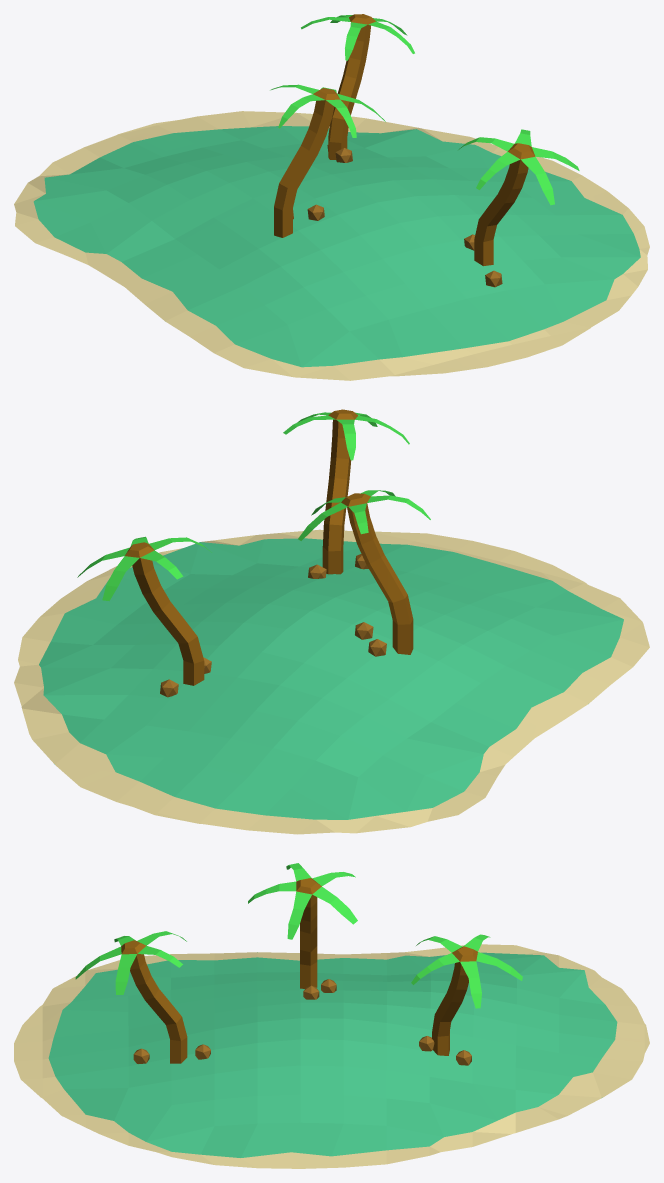
File: Island.glb
3 views of the same model, one above another, from view 1: azimuth 30°, elevation 25°; view 2: azimuth 150°, elevation 25°; view 3: azimuth 270°, elevation 25° (orthographic). The views are drawn at different scales.
Parts seen in each view (by area): view 1: Plane, Cylinder.001, Cylinder, Cylinder.002; view 2: Plane, Cylinder.002, Cylinder, Cylinder.001; view 3: Plane, Cylinder.001, Cylinder.002, Cylinder.
Part boxes in pixels (box(x1,y1,x2,y2)): Plane: box(14, 111, 649, 380); Cylinder.001: box(458, 129, 579, 266); Cylinder: box(270, 84, 385, 237); Cylinder.002: box(301, 14, 414, 159); Plane: box(14, 529, 649, 834); Cylinder.002: box(77, 536, 211, 685); Cylinder: box(298, 490, 430, 654); Cylinder.001: box(283, 409, 409, 574); Plane: box(14, 944, 649, 1168); Cylinder.001: box(75, 931, 187, 1063); Cylinder.002: box(411, 934, 522, 1055); Cylinder: box(248, 863, 357, 988).
Size of the model in its own units: 2.79 by 0.9208 by 3.33.
